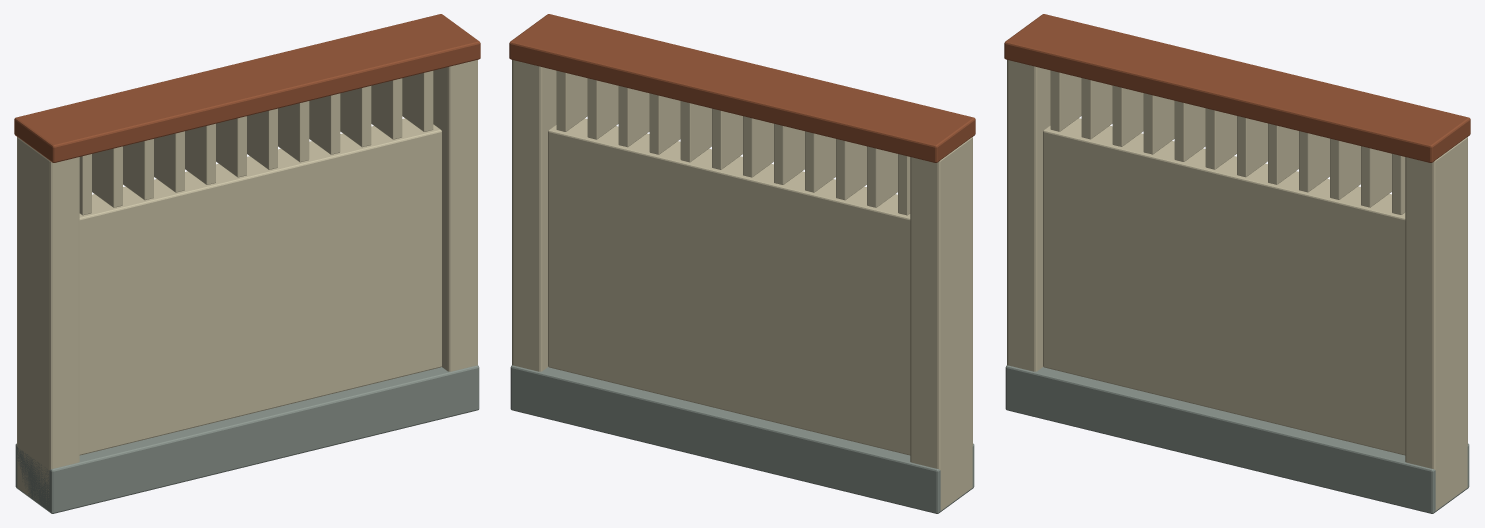
3 renders of one model, left to right at view 1: azimuth 30°, elevation 25°; view 2: azimuth 150°, elevation 25°; view 3: azimuth 330°, elevation 25°, orthographic.
Parts seen in each view (by area): view 1: WALL_Infill, WALL_Cap, WALL_Base, WALL_EndPier, WALL_EndPier.001, VENT_Upright_7, VENT_Upright_8, VENT_Upright_10, VENT_Upright_9, VENT_Upright_11, VENT_Upright_1, VENT_Upright_2 (+5 smaller); view 2: WALL_Infill, WALL_Cap, WALL_Base, WALL_EndPier, WALL_EndPier.001, VENT_Upright_7, VENT_Upright_8, VENT_Upright_10, VENT_Upright_9, VENT_Upright_11, VENT_Upright_1, VENT_Upright_2 (+5 smaller); view 3: WALL_Infill, WALL_Cap, WALL_Base, WALL_EndPier.001, WALL_EndPier, VENT_Upright_5, VENT_Upright_3, VENT_Upright_4, VENT_Upright_1, VENT_Upright_2, VENT_Upright_0, VENT_Upright_10 (+5 smaller).
Part boxes in pixels (x1,y1,x2,y2): WALL_Infill: (79,118,441,455); WALL_Cap: (14,14,480,162); WALL_Base: (15,365,479,513); WALL_EndPier: (17,137,79,504); WALL_EndPier.001: (433,60,477,371); VENT_Upright_7: (278,101,309,162); VENT_Upright_8: (309,93,340,154); VENT_Upright_10: (371,78,402,139); VENT_Upright_9: (340,86,371,147); VENT_Upright_11: (402,71,433,131); VENT_Upright_1: (92,146,122,207); VENT_Upright_2: (123,139,153,200); WALL_Infill: (548,118,910,455); WALL_Cap: (509,14,975,162); WALL_Base: (510,365,974,513); WALL_EndPier: (910,137,972,510); WALL_EndPier.001: (512,60,556,371); VENT_Upright_7: (680,101,711,162); VENT_Upright_8: (649,93,680,154); VENT_Upright_10: (587,78,618,139); VENT_Upright_9: (618,86,649,147); VENT_Upright_11: (556,71,587,131); VENT_Upright_1: (867,146,897,207); VENT_Upright_2: (836,139,866,200); WALL_Infill: (1043,118,1405,455); WALL_Cap: (1004,14,1470,162); WALL_Base: (1005,365,1469,513); WALL_EndPier.001: (1405,137,1467,510); WALL_EndPier: (1007,60,1050,371); VENT_Upright_5: (1205,108,1236,169); VENT_Upright_3: (1143,93,1174,154); VENT_Upright_4: (1174,101,1205,161); VENT_Upright_1: (1081,78,1112,139); VENT_Upright_2: (1112,85,1143,146); VENT_Upright_0: (1050,70,1081,131); VENT_Upright_10: (1361,146,1391,207).
Size of the model in its own units: 2 by 1.65 by 0.32.
